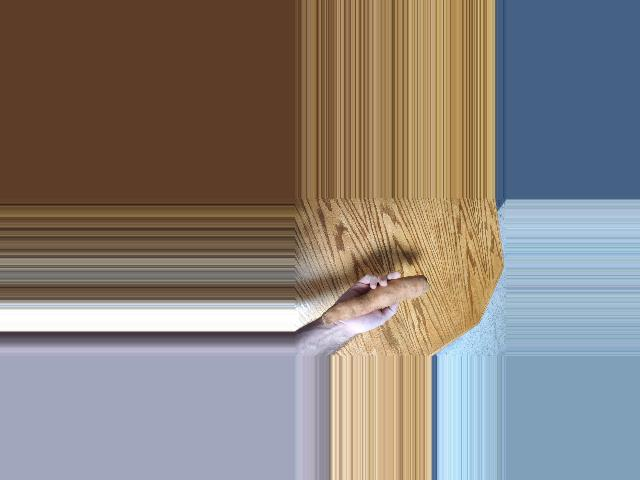sweet_potato: (324, 273, 430, 324)
